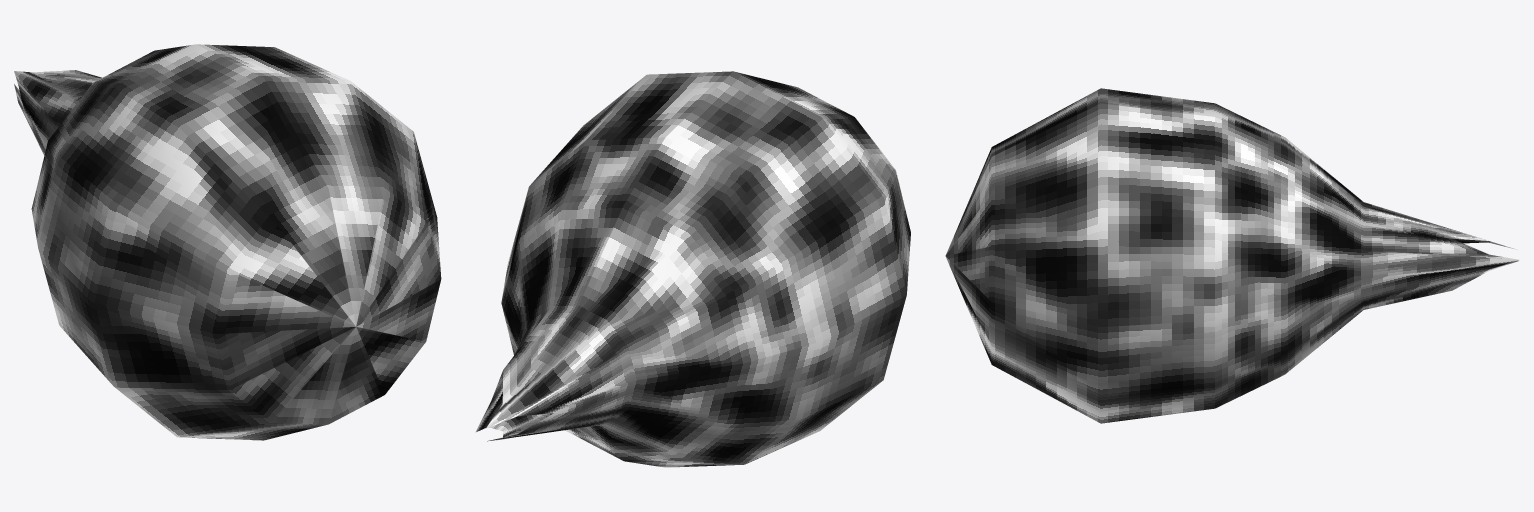
File: kpfire1fire.dae
The picture shows the model from 3 angles, left to right: view 1: azimuth 30°, elevation 25°; view 2: azimuth 150°, elevation 25°; view 3: azimuth 270°, elevation 25°; orthographic projection. The views are drawn at different scales.
Visible parts, largest first — view 1: n0b0; view 2: n0b0; view 3: n0b0.
Part boxes in pixels (x1,y1,x2,y2): n0b0: (14,44,441,440); n0b0: (475,71,910,467); n0b0: (945,88,1518,423).
Size of the model in its own units: 742 by 742 by 1169.
Materials: 3 (3 with a texture image).
